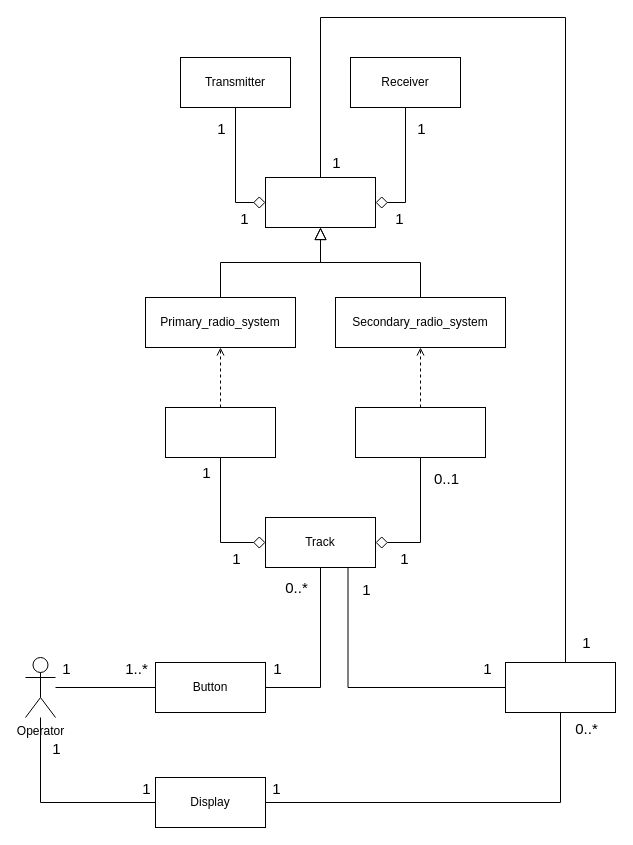
Some shapes in this 633 by 845 pixel diagram are drawn without their labels. The shapes that lost their labels are listed below. From the top down, each one's centre as x and y in pixels, then its label:
At [320,202]: "Radio_system".
At [220,432]: "Positional_data".
At [420,432]: "Identification_data".
At [560,687]: "Warning".
